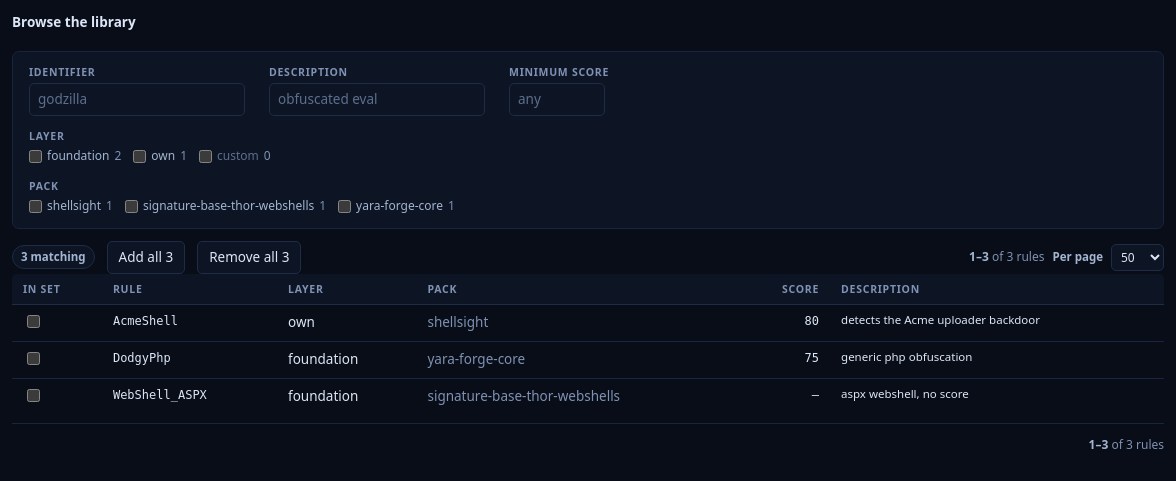
a score filter states how many rules it could not judge
expect the text "could not be judged" is not shown: met
Type "78" into the field labelled "Minimum score". click: x=557, y=100
box: [509,83,605,116]
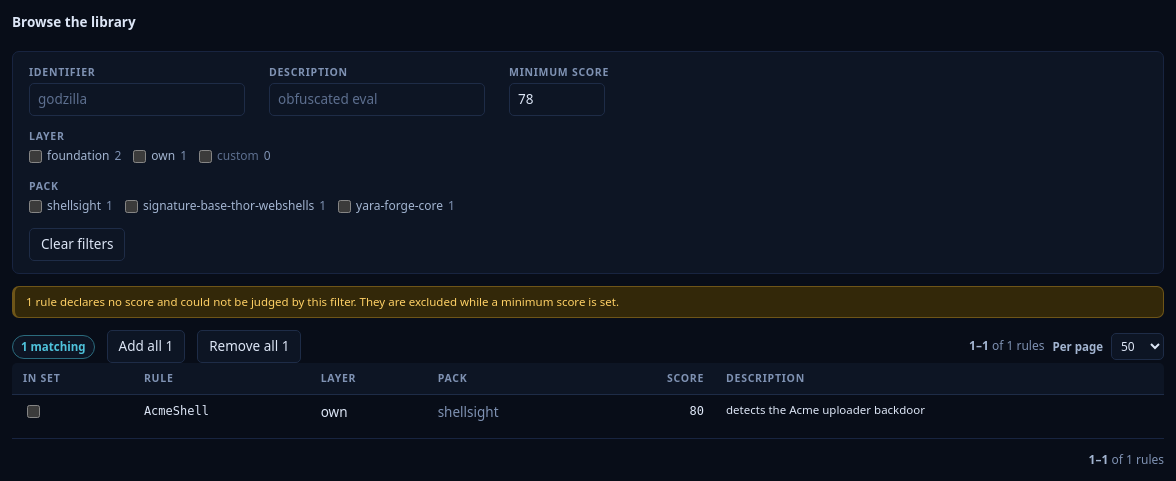
expect the text "1 rule declares no score and could not be judged" is shown: met, box [12,286,1164,318]
